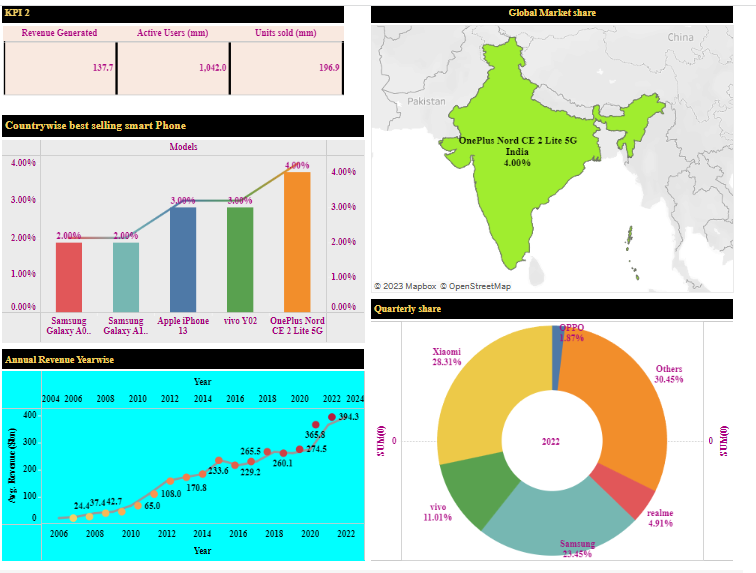

Layout of this report page (visuals, bound fields, positions):
{"tool":"tableau","page":{"name":"Dashboard 2","canvas":[1000,800],"ordinal":1},"visuals":[{"type":"title","box":[8,8,984,41]},{"type":"worksheet","title":"KP2","mark":"Automatic","box":[8,49,492,147.8]},{"type":"worksheet","title":"global market share","mark":"Multipolygon","box":[500,49,492,389.5]},{"type":"worksheet","title":"countrywise best selling smart phone","mark":"Automatic","rows":["Sales Share","Sales Share"],"cols":["Models"],"box":[8,196.8,492,308]},{"type":"worksheet","title":"quartely share","mark":"Pie","rows":["Calculation_1348546622332145666","Calculation_1348546622332145666"],"box":[500,438.5,492,353.5]},{"type":"worksheet","title":"Annual revenue","mark":"Automatic","rows":["Revenue ($bn)"],"cols":["Year","Year"],"box":[8,504.8,492,287.2]}]}

Visuals, with their boxes on the page's 1000x800 design canvas (x1, y1, x2, y2). These are canvas units, not pixel positions in the 756x573 screenshot, which may show the page scaled, cropped or inside an application window:
title: (x1=8, y1=8, x2=992, y2=49)
"KP2" worksheet: (x1=8, y1=49, x2=500, y2=197)
"global market share" worksheet (Multipolygon marks): (x1=500, y1=49, x2=992, y2=438)
"countrywise best selling smart phone" worksheet: (x1=8, y1=197, x2=500, y2=505)
"quartely share" worksheet (Pie marks): (x1=500, y1=438, x2=992, y2=792)
"Annual revenue" worksheet: (x1=8, y1=505, x2=500, y2=792)
